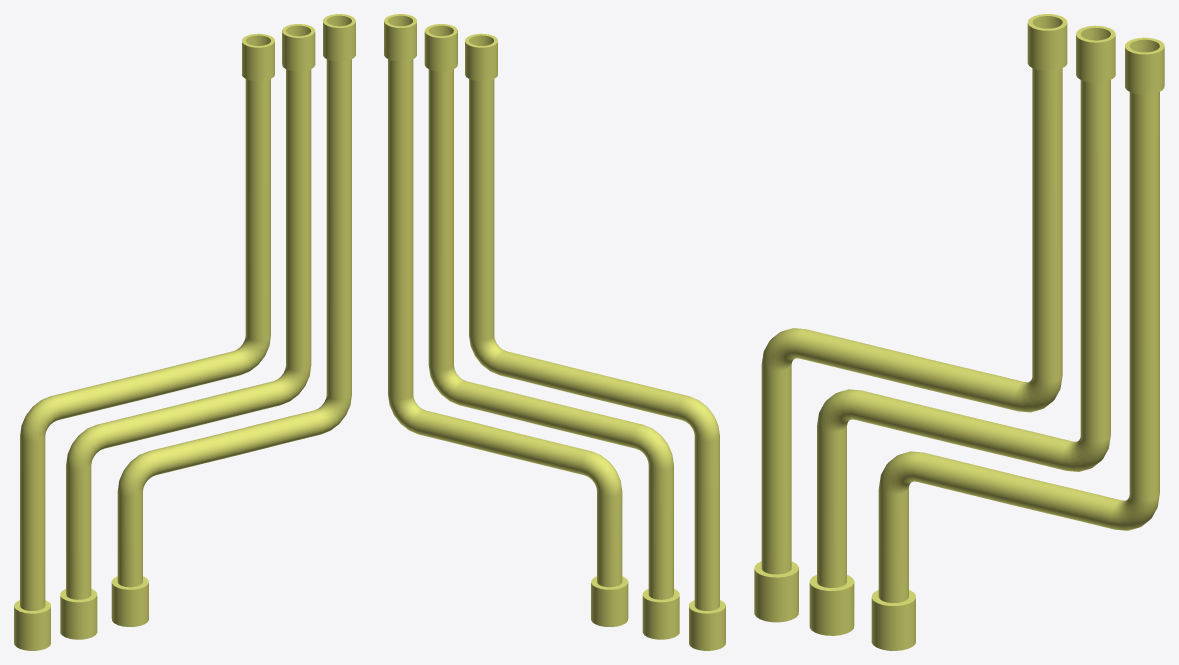
File: Generator_Pipe_Vertical_Curved_2.fbx
3 views of the same model, side by side, from view 1: azimuth 30°, elevation 25°; view 2: azimuth 150°, elevation 25°; view 3: azimuth 330°, elevation 25° (orthographic). The views are drawn at different scales.
Parts seen in each view (by area): view 1: Pipe_Vertical_Curved_2; view 2: Pipe_Vertical_Curved_2; view 3: Pipe_Vertical_Curved_2.
Boxes of the visible parts, x1,y1,x2,y2 form: Pipe_Vertical_Curved_2: (14, 14, 355, 650); Pipe_Vertical_Curved_2: (384, 14, 725, 650); Pipe_Vertical_Curved_2: (754, 14, 1164, 650).
Size of the model in its own units: 475 by 736 by 45.51.
